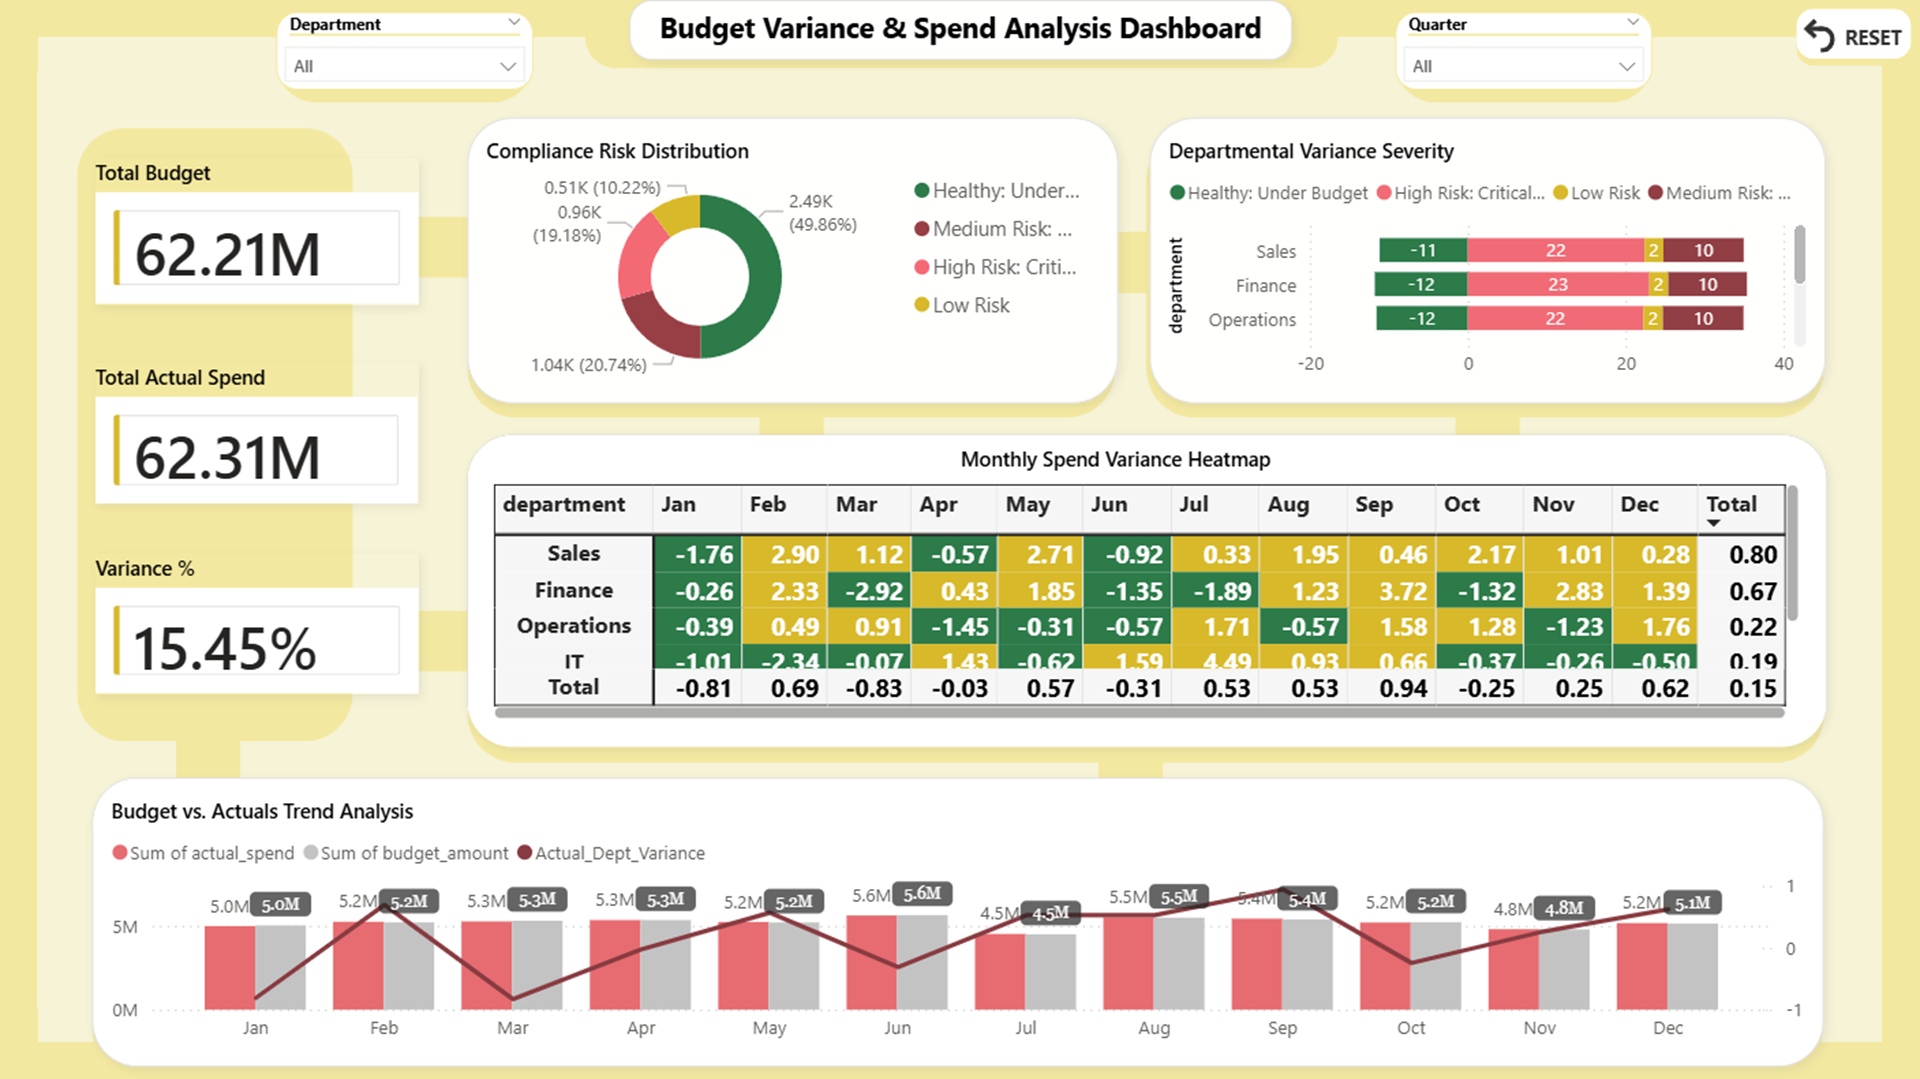

This screenshot's page, from the dashboard's own definition file:
{"tool":"powerbi","page":{"name":"Final","canvas":[1280,720],"ordinal":3},"visuals":[{"type":"group","id":"g1","title":"Group 10","box":[0,0,1280,720.2],"z":0},{"type":"shape","box":[0,0,25.3,47.1],"z":0,"group":"g1"},{"type":"shape","box":[50.9,85.7,184.1,409],"z":0,"group":"g10"},{"type":"shape","box":[311.3,88.1,431.9,190.8],"z":1000,"group":"g7"},{"type":"cardVisual","title":"Total Actual Spend","fields":{"Data":["Sum(corporate_finance corporate_budget_audit.actual_spend)"]},"box":[63.9,242.5,214.9,93.8],"z":1000,"group":"g10"},{"type":"shape","box":[0,673.2,25.3,47.1],"z":1000,"group":"g1"},{"type":"shape","box":[0,693.8,1280,26.2],"z":1000},{"type":"shape","box":[1253.8,0,26.2,720],"z":2000},{"type":"shape","box":[1254.7,0,25.3,47.1],"z":2000,"group":"g1"},{"type":"cardVisual","title":"Total Budget","fields":{"Data":["Sum(corporate_finance corporate_budget_audit.budget_amount)"]},"box":[63.5,106.7,215.5,97.4],"z":2000,"group":"g10"},{"type":"shape","box":[0,0,1280,25],"z":3000},{"type":"shape","box":[311.3,289.3,905.3,207.6],"z":3000,"group":"g3"},{"type":"cardVisual","title":"Variance %","fields":{"Data":["corporate_finance corporate_budget_audit.Actual_Dept_Variance"]},"box":[63.5,370.2,215.5,93.3],"z":3000,"group":"g10"},{"type":"shape","box":[1254.7,673.2,25.3,47.1],"z":3000,"group":"g1"},{"type":"group","id":"g2","title":"Group 3","box":[1196.5,5.8,76.7,38.4],"z":4000},{"type":"shape","box":[61.6,526.5,1152.9,192.4],"z":4000,"group":"g5"},{"type":"actionButton","box":[1196.8,8.4,74.8,31.4],"z":5000},{"type":"shape","box":[389.7,4.8,501.9,41],"z":6000},{"type":"shape","box":[184.5,15.9,170.8,52.5],"z":6000,"group":"g9"},{"type":"shape","box":[929.3,15.9,170.8,52.5],"z":6000,"group":"g11"},{"type":"shape","box":[764.1,88.1,451.6,190.8],"z":6000,"group":"g8"},{"type":"pivotTable","fields":{"Rows":["corporate_finance corporate_budget_audit.department"],"Columns":["corporate_finance corporate_budget_audit.reporting_month"],"Values":["corporate_finance corporate_budget_audit.Actual_Dept_Variance"]},"box":[311.7,289.4,905.7,208.2],"z":6000,"group":"g3"},{"type":"shape","box":[513.9,154.4,501.9,41],"z":7000},{"type":"lineClusteredColumnComboChart","title":"Budget vs. Actuals Trend Analysis","fields":{"Category":["corporate_finance corporate_budget_audit.reporting_month"],"Y":["Sum(corporate_finance corporate_budget_audit.actual_spend)","Sum(corporate_finance corporate_budget_audit.budget_amount)"],"Y2":["corporate_finance corporate_budget_audit.Actual_Dept_Variance"]},"box":[61.4,518.5,1153.6,193.1],"z":7000,"group":"g5"},{"type":"shape","box":[1196.5,10.5,76.7,33.7],"z":7500,"group":"g2"},{"type":"textbox","box":[419.8,0,441.6,39.8],"z":8000},{"type":"donutChart","title":"Compliance Risk Distribution","fields":{"Category":["corporate_finance corporate_budget_audit.audit_status"],"Y":["CountNonNull(corporate_finance corporate_budget_audit.audit_status)"]},"box":[311.5,78.6,433.3,190.1],"z":8000,"group":"g7"},{"type":"group","id":"g3","title":"Group 1","box":[311.3,289.3,906.1,208.3],"z":8000,"group":"g4"},{"type":"slicer","fields":{"Values":["corporate_finance corporate_budget_audit.department"]},"box":[184.4,8.4,171.3,51.9],"z":9000,"group":"g9"},{"type":"slicer","fields":{"Values":["corporate_finance corporate_budget_audit.reporting_quarters"]},"box":[929.2,8.4,171.3,51.9],"z":9000,"group":"g11"},{"type":"textbox","box":[603.1,291.8,279.6,28.7],"z":9000,"group":"g4"},{"type":"shape","box":[736.2,414.4,42.9,194.2],"z":9000},{"type":"shape","box":[1196.5,5.8,76.7,33.7],"z":9500,"group":"g2"},{"type":"barChart","title":"Departmental Variance Severity","fields":{"Category":["corporate_finance corporate_budget_audit.department"],"Y":["corporate_finance corporate_budget_audit.Actual_Dept_Variance"],"Series":["corporate_finance corporate_budget_audit.audit_status"]},"box":[765.6,78.6,450.5,190.1],"z":10000,"group":"g8"},{"type":"shape","box":[505.5,191.8,43.4,194.2],"z":10000},{"type":"shape","box":[311.5,301.5,904,206.2],"z":11000,"group":"g6"},{"type":"shape","box":[83.2,406.6,501.9,41],"z":11000},{"type":"shape","box":[84.5,144.8,501.9,41],"z":12000},{"type":"shape","box":[117,416.2,43.4,194.2],"z":13000},{"type":"shape","box":[968.8,191.8,43.4,194.2],"z":14000},{"type":"group","id":"g4","title":"Group 2","box":[311.3,289.3,904.8,208.3],"z":15000,"group":"g6"},{"type":"group","id":"g5","title":"Group 4","box":[61.4,518.5,1153.6,200.4],"z":15000},{"type":"group","id":"g6","title":"Group 5","box":[311.3,289.3,904.8,218.4],"z":16000},{"type":"group","id":"g7","title":"Group 6","box":[311.3,78.6,433.5,200.3],"z":16004,"group":"g8"},{"type":"group","id":"g8","title":"Group 7","box":[311.3,78.6,904.8,199.1],"z":17000},{"type":"group","id":"g9","title":"Group 8","box":[184.4,8.4,171.3,60.3],"z":18000},{"type":"group","id":"g10","title":"Group 9","box":[50.9,85.7,228,409],"z":19000},{"type":"group","id":"g11","title":"Group 8","box":[929.2,8.4,171.3,60.3],"z":20000},{"type":"shape","box":[0,0,25,720],"z":21000}]}

Visuals, with their boxes in screenshot pixels (x1, y1, x2, y2), scaled from the page's 1280x720 canvas onto the 1920x1079 screenshot:
"Group 10" group: x1=0, y1=0, x2=1919, y2=1078
shape: x1=0, y1=0, x2=38, y2=71
shape: x1=76, y1=128, x2=352, y2=741
shape: x1=467, y1=132, x2=1115, y2=418
"Total Actual Spend" cardVisual: x1=96, y1=363, x2=418, y2=504
shape: x1=0, y1=1009, x2=38, y2=1078
shape: x1=0, y1=1040, x2=1919, y2=1078
shape: x1=1881, y1=0, x2=1919, y2=1078
shape: x1=1882, y1=0, x2=1919, y2=71
"Total Budget" cardVisual: x1=95, y1=160, x2=418, y2=306
shape: x1=0, y1=0, x2=1919, y2=37
shape: x1=467, y1=434, x2=1825, y2=745
"Variance %" cardVisual: x1=95, y1=555, x2=418, y2=695
shape: x1=1882, y1=1009, x2=1919, y2=1078
"Group 3" group: x1=1795, y1=9, x2=1910, y2=66
shape: x1=92, y1=789, x2=1822, y2=1077
actionButton: x1=1795, y1=13, x2=1907, y2=60
shape: x1=585, y1=7, x2=1337, y2=69
shape: x1=277, y1=24, x2=533, y2=103
shape: x1=1394, y1=24, x2=1650, y2=103
shape: x1=1146, y1=132, x2=1824, y2=418
pivotTable - corporate_finance corporate_budget_audit.department x corporate_finance corporate_budget_audit.reporting_month: x1=468, y1=434, x2=1826, y2=746
shape: x1=771, y1=231, x2=1524, y2=293
"Budget vs. Actuals Trend Analysis" lineClusteredColumnComboChart: x1=92, y1=777, x2=1822, y2=1066
shape: x1=1795, y1=16, x2=1910, y2=66
textbox: x1=630, y1=0, x2=1292, y2=60
"Compliance Risk Distribution" donutChart: x1=467, y1=118, x2=1117, y2=403
"Group 1" group: x1=467, y1=434, x2=1826, y2=746
slicer - corporate_finance corporate_budget_audit.department: x1=277, y1=13, x2=534, y2=90
slicer - corporate_finance corporate_budget_audit.reporting_quarters: x1=1394, y1=13, x2=1651, y2=90
textbox: x1=905, y1=437, x2=1324, y2=480
shape: x1=1104, y1=621, x2=1169, y2=912
shape: x1=1795, y1=9, x2=1910, y2=59
"Departmental Variance Severity" barChart: x1=1148, y1=118, x2=1824, y2=403
shape: x1=758, y1=287, x2=823, y2=578
shape: x1=467, y1=452, x2=1823, y2=761
shape: x1=125, y1=609, x2=878, y2=671
shape: x1=127, y1=217, x2=880, y2=278
shape: x1=176, y1=624, x2=241, y2=915
shape: x1=1453, y1=287, x2=1518, y2=578
"Group 2" group: x1=467, y1=434, x2=1824, y2=746
"Group 4" group: x1=92, y1=777, x2=1822, y2=1077
"Group 5" group: x1=467, y1=434, x2=1824, y2=761
"Group 6" group: x1=467, y1=118, x2=1117, y2=418
"Group 7" group: x1=467, y1=118, x2=1824, y2=416
"Group 8" group: x1=277, y1=13, x2=534, y2=103
"Group 9" group: x1=76, y1=128, x2=418, y2=741
"Group 8" group: x1=1394, y1=13, x2=1651, y2=103
shape: x1=0, y1=0, x2=38, y2=1078
